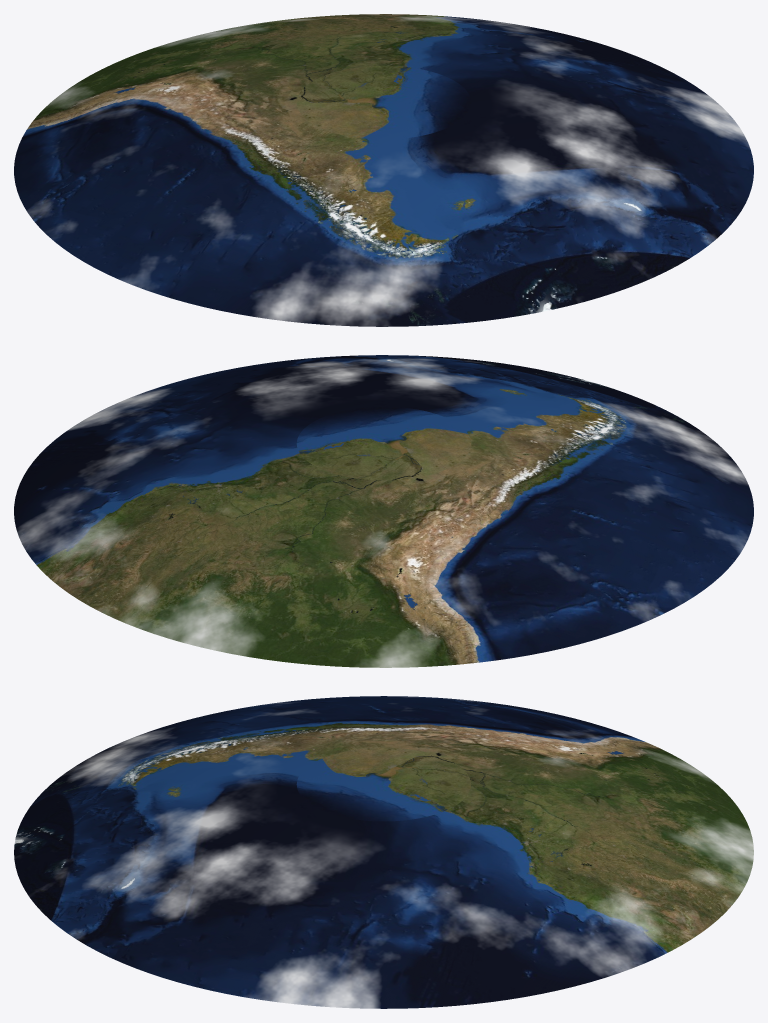
The model's file is Tierra_Uruguay_al_nadir.fbx.
3 renders of one model, top to bottom at view 1: azimuth 30°, elevation 25°; view 2: azimuth 150°, elevation 25°; view 3: azimuth 270°, elevation 25°, orthographic.
Visible parts, largest first — view 1: Tierra, Tierra_Detalle; view 2: Tierra, Tierra_Detalle; view 3: Tierra, Tierra_Detalle.
Part boxes in pixels (x1,y1,x2,y2): Tierra: (14, 14, 753, 326); Tierra_Detalle: (296, 65, 471, 139); Tierra: (14, 355, 753, 667); Tierra_Detalle: (296, 406, 471, 480); Tierra: (14, 696, 753, 1008); Tierra_Detalle: (296, 747, 471, 821).
Size of the model in its own units: 813 by 86.95 by 813.
